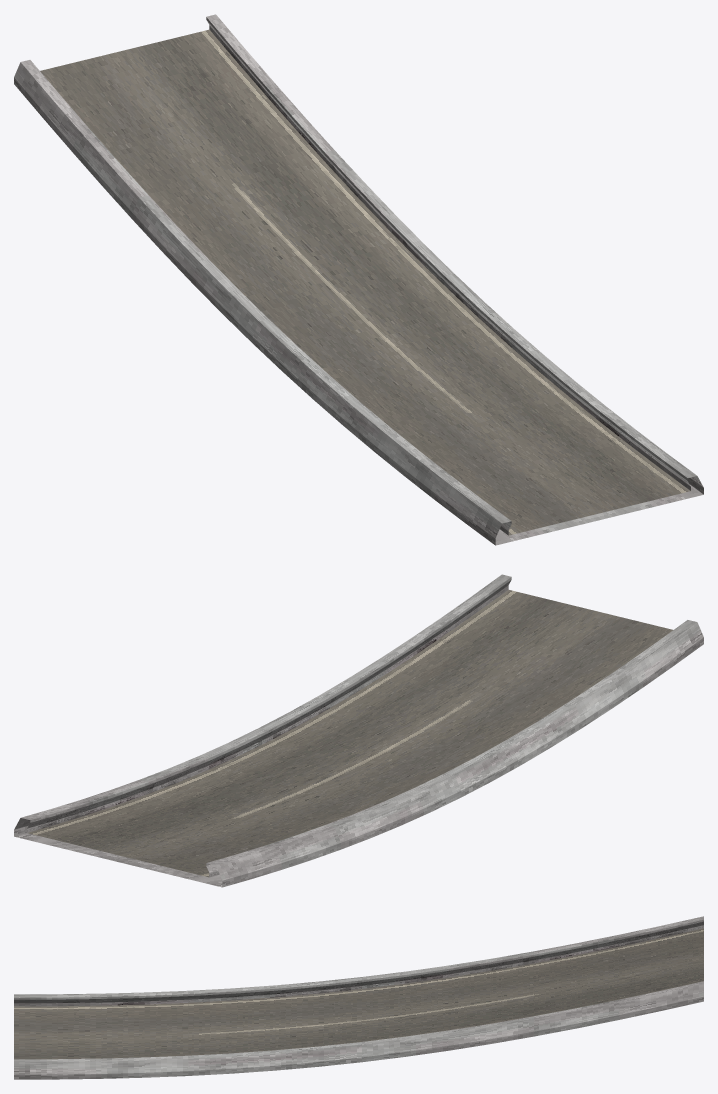
File: road-Straight-Flat-BiSlopeUp-Up2-Center-Size4.glb
3 renders of one model, top to bottom at view 1: azimuth 30°, elevation 25°; view 2: azimuth 150°, elevation 25°; view 3: azimuth 270°, elevation 25°, orthographic. The views are drawn at different scales.
Visible parts, largest first — view 1: road-Straight-Flat-BiSlopeUp-Up2-Center-Size4; view 2: road-Straight-Flat-BiSlopeUp-Up2-Center-Size4; view 3: road-Straight-Flat-BiSlopeUp-Up2-Center-Size4.
Boxes of the visible parts, bbox=[...] form: road-Straight-Flat-BiSlopeUp-Up2-Center-Size4: bbox=[14, 14, 703, 545]; road-Straight-Flat-BiSlopeUp-Up2-Center-Size4: bbox=[14, 574, 703, 887]; road-Straight-Flat-BiSlopeUp-Up2-Center-Size4: bbox=[14, 916, 703, 1079].
Size of the model in its own units: 1 by 0.5938 by 4.
Materials: 2 (2 with a texture image).
